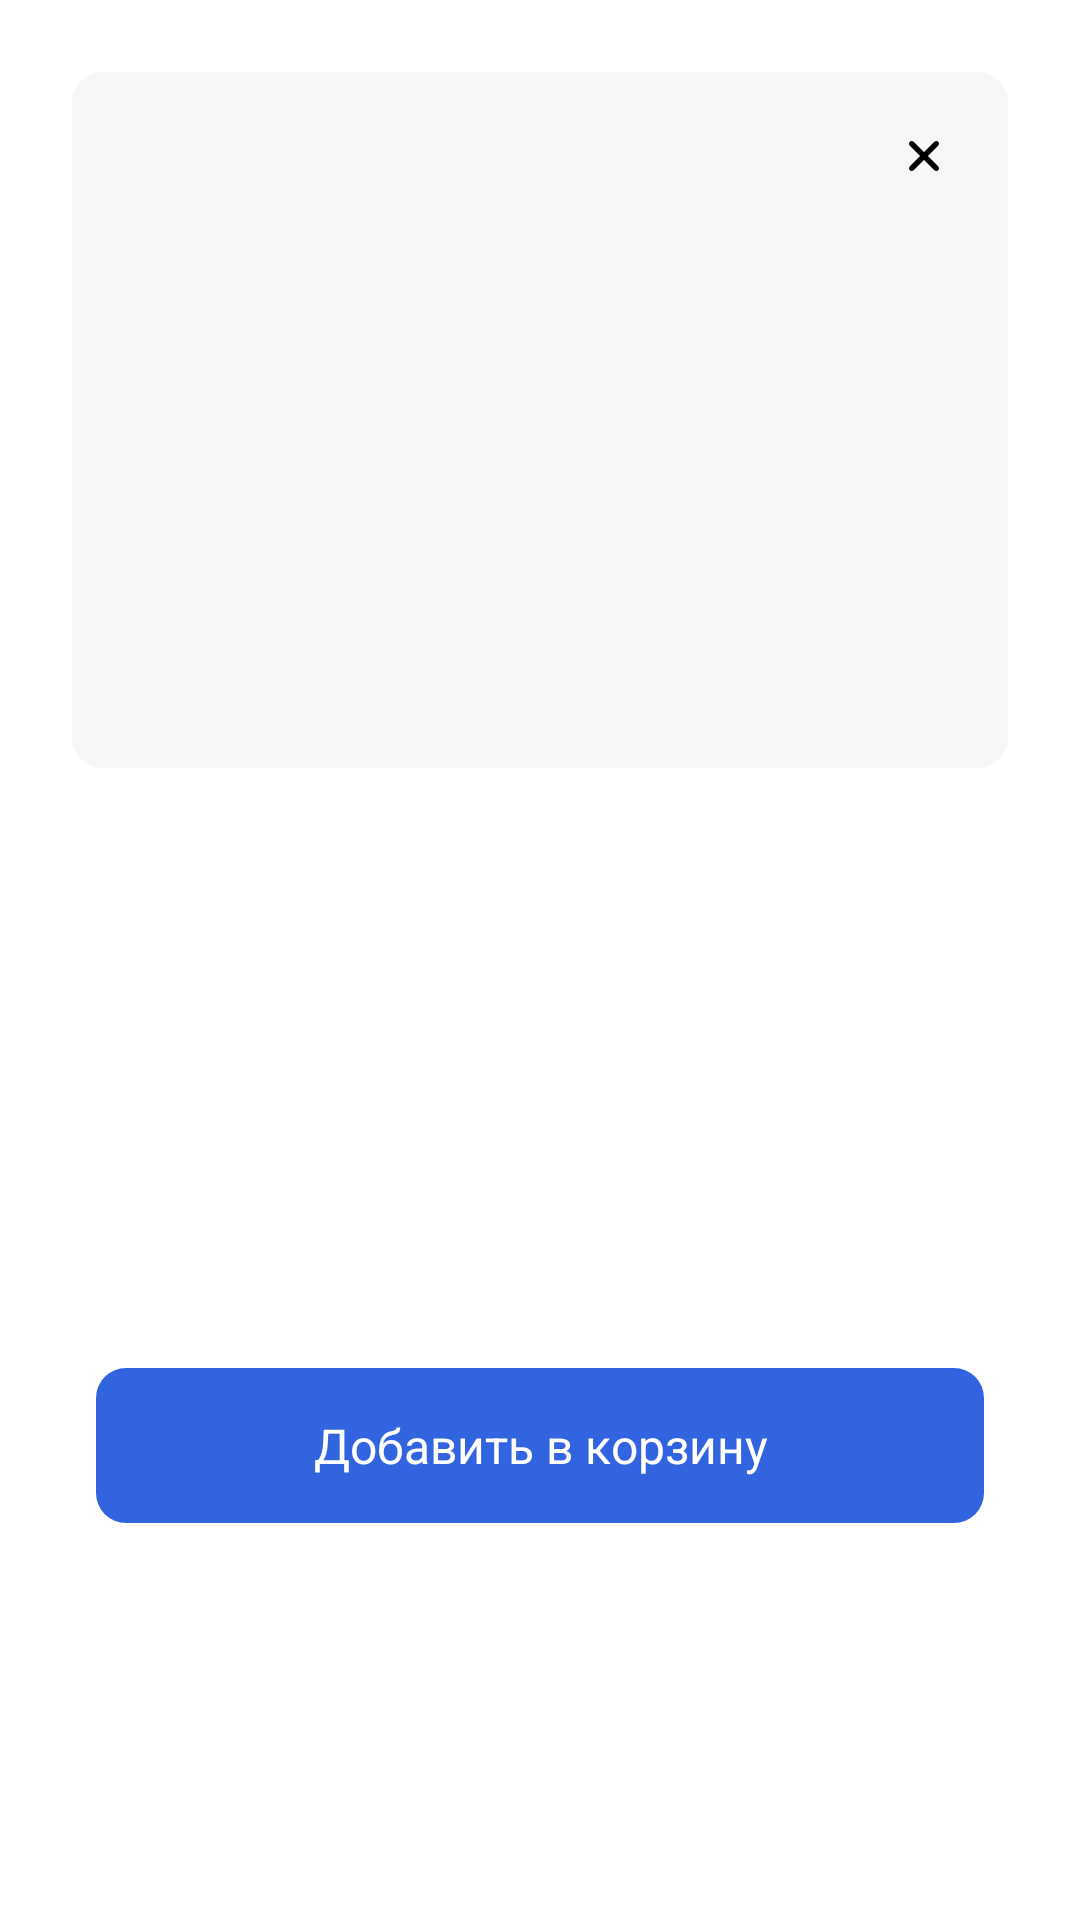

Where to tap for icons on this 1080px x 1920px app screen, as (x=x, y=y):
close: (x=924, y=156)
